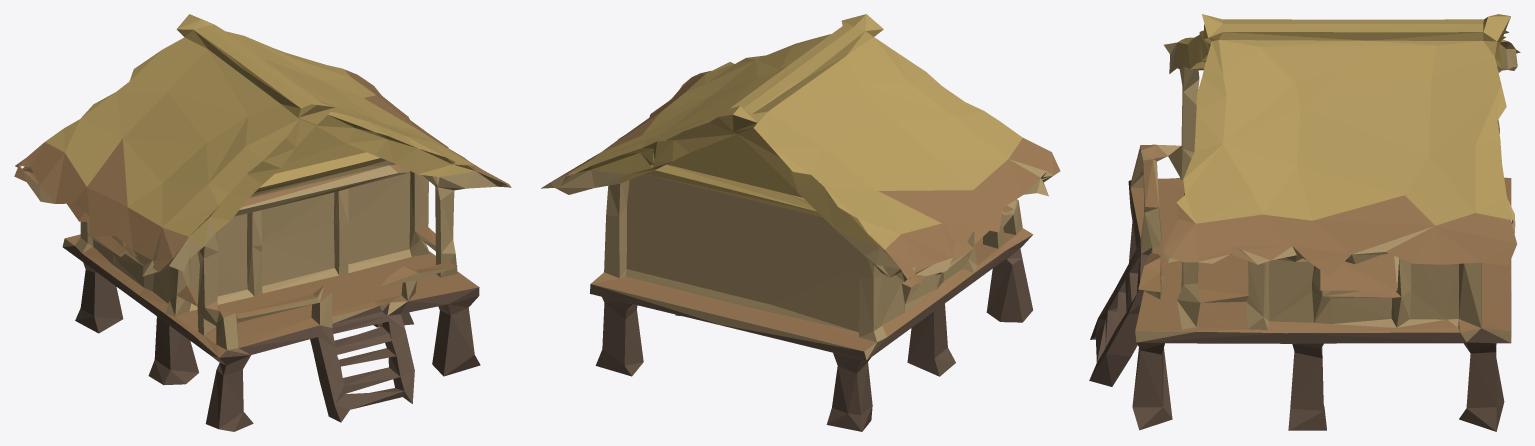
The model's file is old_man_hut.glb.
3 views of the same model, side by side, from view 1: azimuth 30°, elevation 25°; view 2: azimuth 150°, elevation 25°; view 3: azimuth 270°, elevation 25° (orthographic). The views are drawn at different scales.
Parts seen in each view (by area): view 1: old_man_hut; view 2: old_man_hut; view 3: old_man_hut.
Boxes of the visible parts, x1=… form: old_man_hut: x1=14, y1=14, x2=511, y2=431; old_man_hut: x1=541, y1=14, x2=1060, y2=431; old_man_hut: x1=1089, y1=14, x2=1520, y2=431.
Bounding box in the file's own units: 2.7 × 2 × 2.3.
